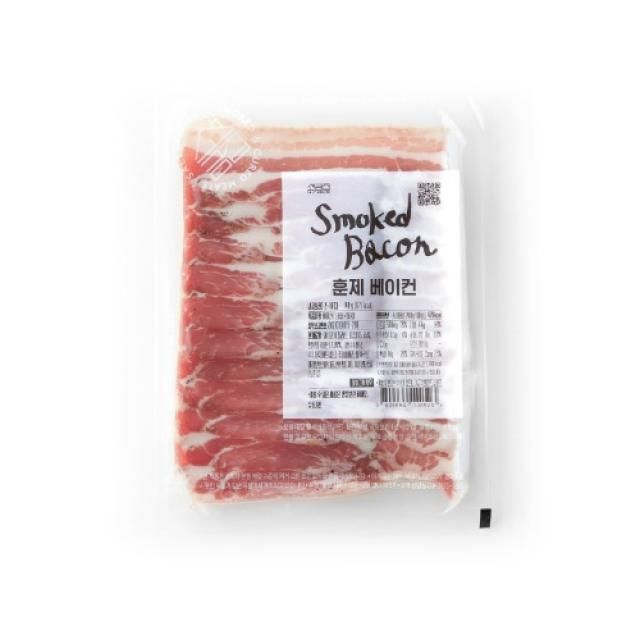bacon: (175, 118, 482, 513)
